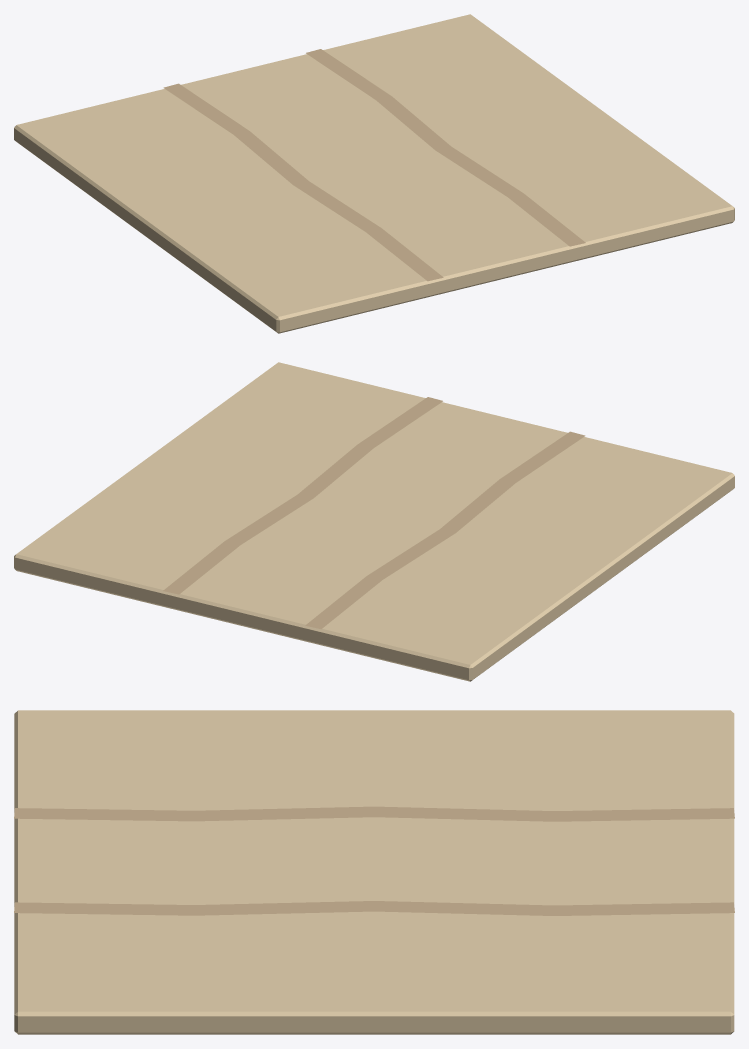
The picture shows the model from 3 angles, top to bottom: view 1: azimuth 30°, elevation 25°; view 2: azimuth 150°, elevation 25°; view 3: azimuth 270°, elevation 25°; orthographic projection. The views are drawn at different scales.
Parts seen in each view (by area): view 1: BA-0072 batched; view 2: BA-0072 batched; view 3: BA-0072 batched.
Boxes of the visible parts, x1,y1,x2,y2 form: BA-0072 batched: (14,14,734,333); BA-0072 batched: (14,362,734,681); BA-0072 batched: (14,710,734,1034).
Size of the model in its own units: 4 by 0.143 by 4.01.
